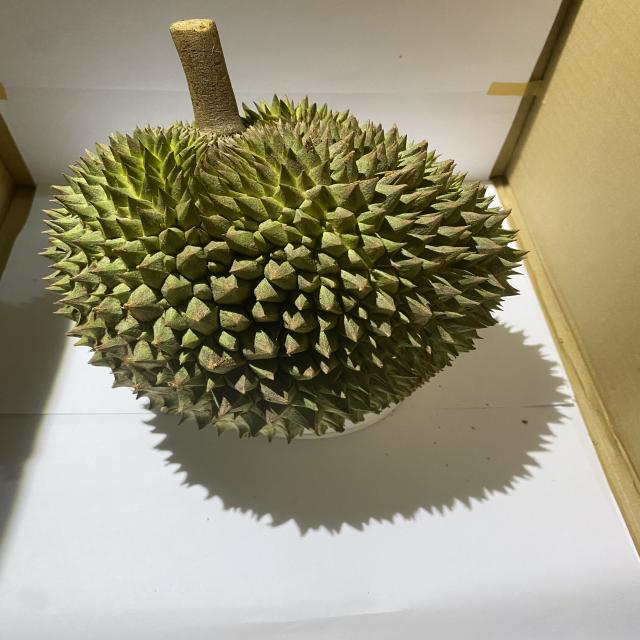immature: (40, 96, 524, 445)
